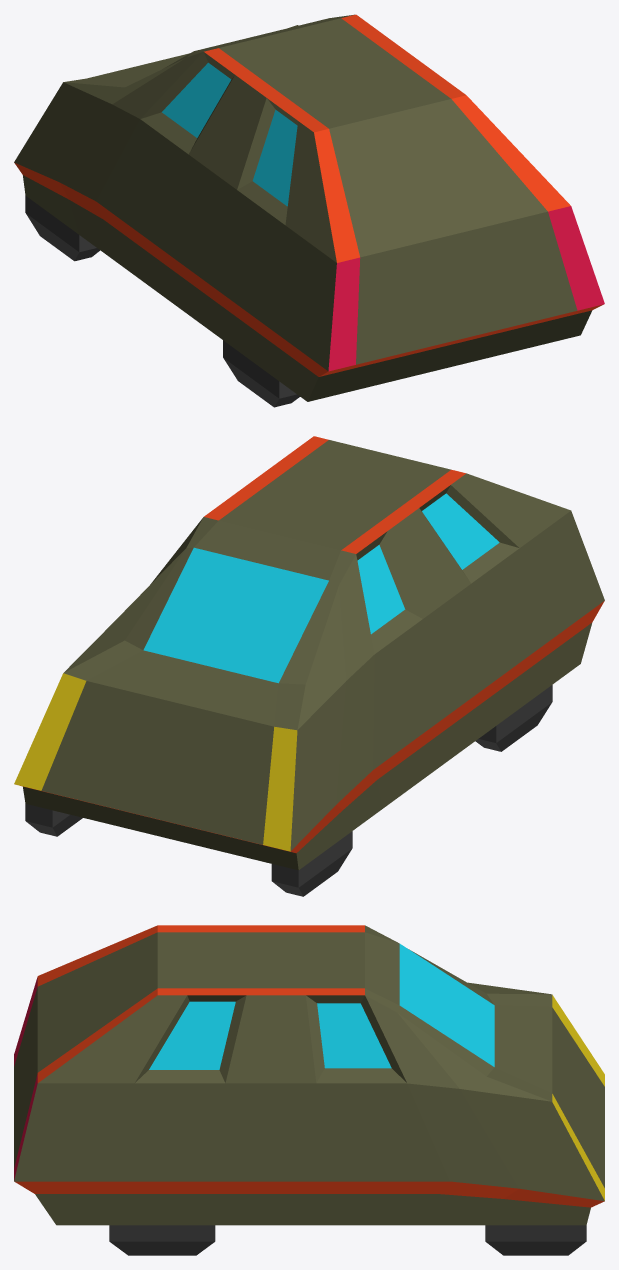
File: car_textured.fbx
3 views of the same model, one above another, from view 1: azimuth 30°, elevation 25°; view 2: azimuth 150°, elevation 25°; view 3: azimuth 270°, elevation 25° (orthographic). The views are drawn at different scales.
Visible parts, largest first — view 1: Cube.002; view 2: Cube.002; view 3: Cube.002.
Part boxes in pixels (<box>): Cube.002: <box>14,14,604,407</box>; Cube.002: <box>14,436,604,896</box>; Cube.002: <box>14,925,604,1255</box>.
Bounding box in the file's own units: 937 × 476 × 411.
